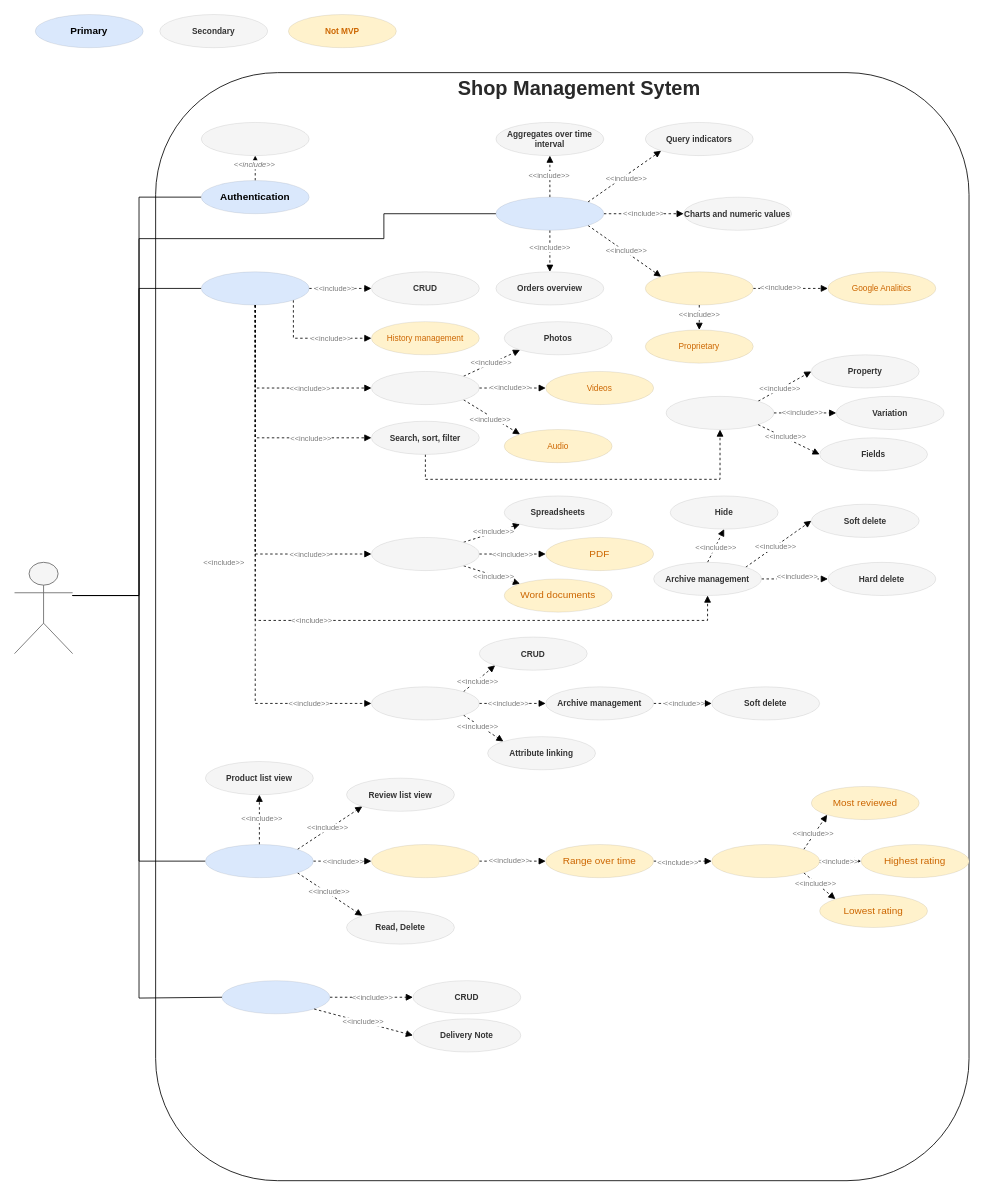
The diagram is 984 pixels wide and 1195 high, and some of its shapes have lost their labels. The centre of each missing label's shape, as x and y in pixels:
"2FA" goes at (255,138).
"Admin" goes at (43,607).
"Aggregates" goes at (425,860).
"Attributes" goes at (720,412).
"Category management" goes at (425,703).
"Dashboard" goes at (549,213).
"Export, Import" goes at (425,553).
"Inventory management" goes at (276,996).
"Multi media management" goes at (425,387).
"Product management" goes at (255,288).
"Review management" goes at (259,860).
"Top 3" goes at (765,860).
"User device indicator" goes at (699,288).
